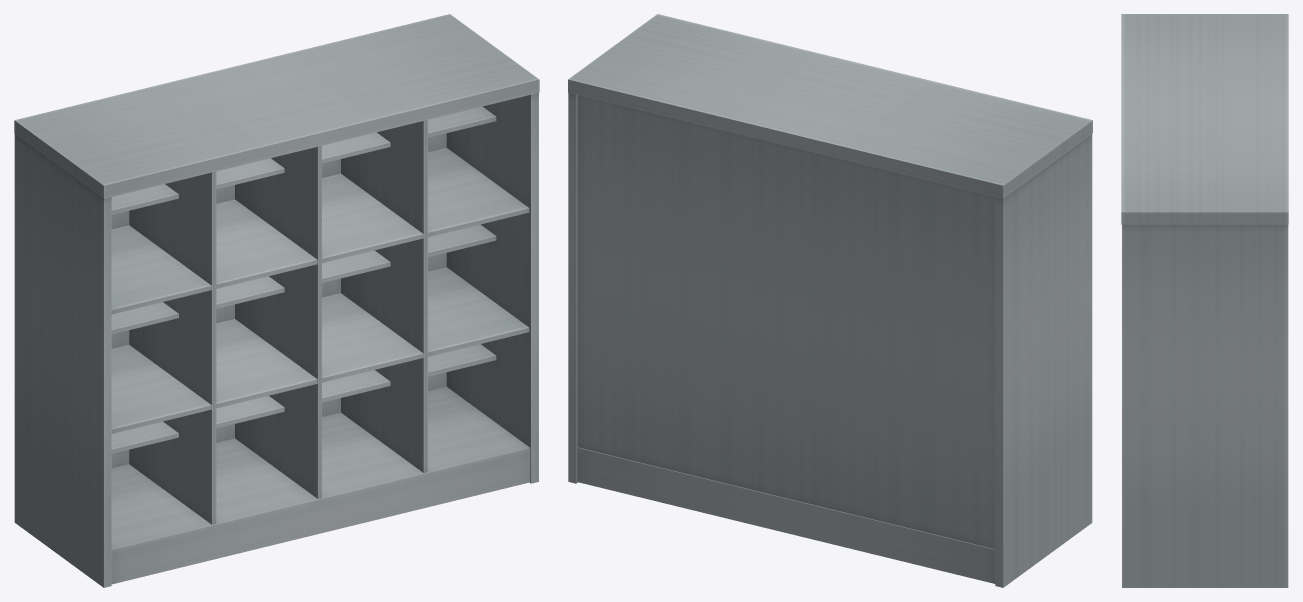
File: set_shoecupboard_a_08.fbx
3 renders of one model, left to right at view 1: azimuth 30°, elevation 25°; view 2: azimuth 150°, elevation 25°; view 3: azimuth 270°, elevation 25°, orthographic. The views are drawn at different scales.
Visible parts, largest first — view 1: set_shoecupboard_a_08; view 2: set_shoecupboard_a_08; view 3: set_shoecupboard_a_08.
Boxes of the visible parts, bbox=[...] form: set_shoecupboard_a_08: bbox=[14, 14, 539, 587]; set_shoecupboard_a_08: bbox=[568, 14, 1092, 587]; set_shoecupboard_a_08: bbox=[1121, 14, 1288, 587].
Bounding box in the file's own units: 105 × 92.62 × 37.38.
